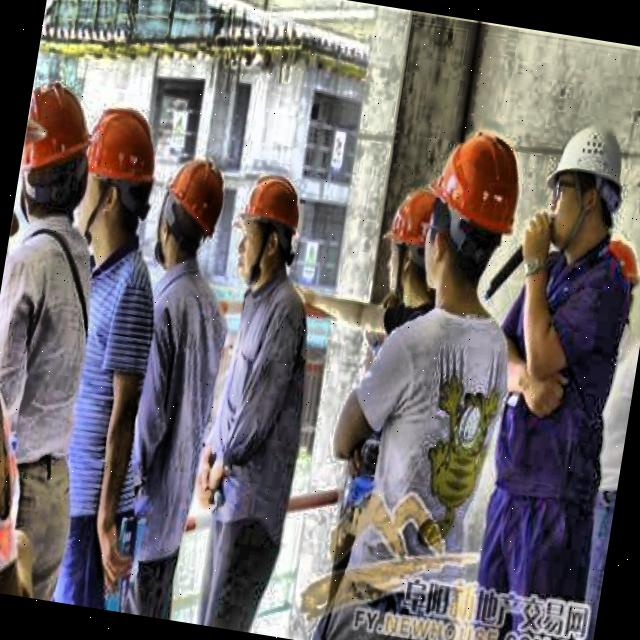helmet: (416, 122, 526, 304), (69, 102, 170, 262), (536, 111, 636, 256), (14, 78, 102, 220), (375, 183, 459, 317), (225, 171, 314, 290), (154, 149, 230, 267), (596, 232, 640, 311)
